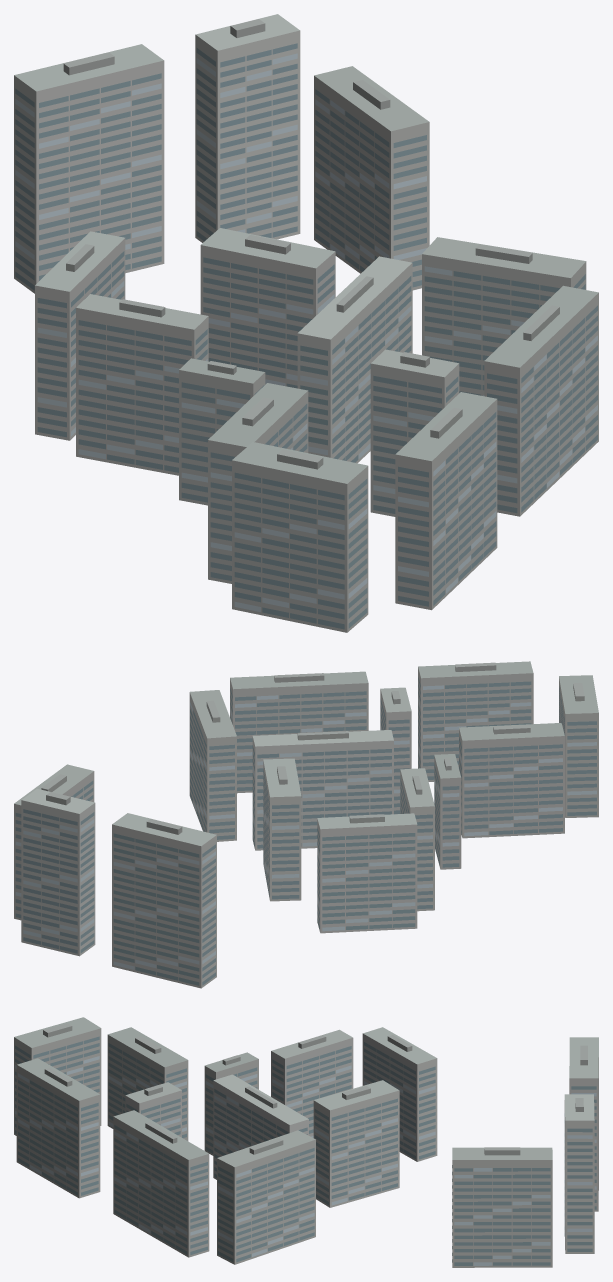
Rendered from apt-a13309102.glb.
3 views of the same model, one above another, from view 1: azimuth 30°, elevation 25°; view 2: azimuth 150°, elevation 25°; view 3: azimuth 270°, elevation 25° (orthographic). The views are drawn at different scales.
Visible parts, largest first — view 1: apt-a13309102; view 2: apt-a13309102; view 3: apt-a13309102.
Part boxes in pixels (x1=…): apt-a13309102: x1=14, y1=14, x2=598, y2=632; apt-a13309102: x1=14, y1=661, x2=598, y2=988; apt-a13309102: x1=14, y1=1017, x2=598, y2=1267.
Size of the model in its own units: 154 by 65 by 249.
